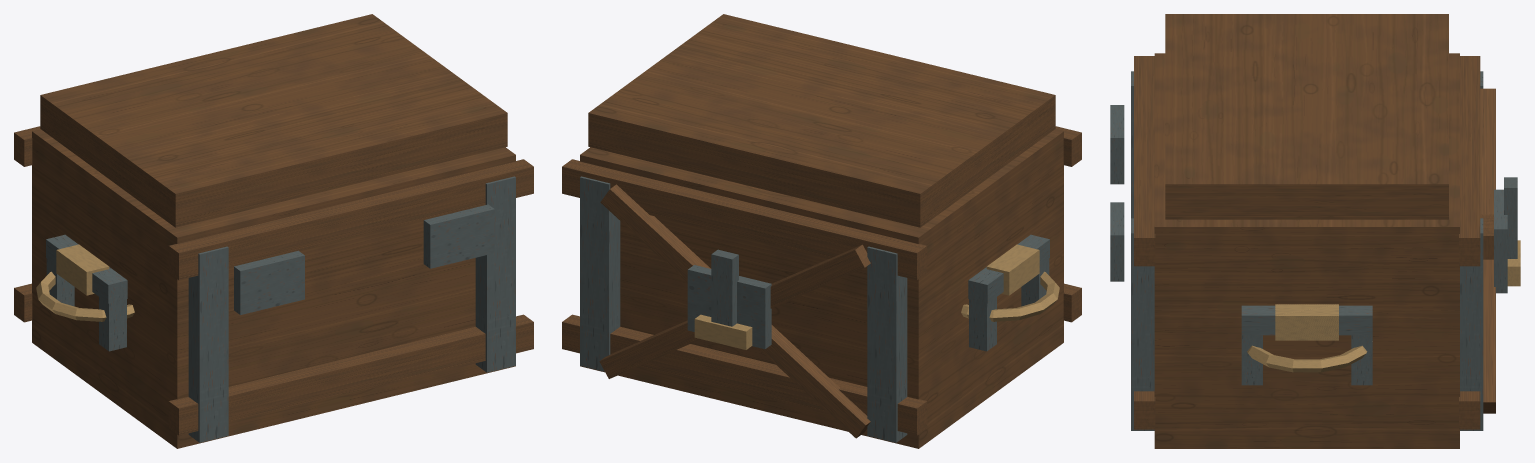
File: pr-004_supply_crate__closed.obj
The picture shows the model from 3 angles, left to right: view 1: azimuth 30°, elevation 25°; view 2: azimuth 150°, elevation 25°; view 3: azimuth 270°, elevation 25°; orthographic projection. The views are drawn at different scales.
Visible parts, largest first — view 1: pr-004_supply_crate__closed; view 2: pr-004_supply_crate__closed; view 3: pr-004_supply_crate__closed.
Part boxes in pixels (x1,y1,x2,y2): pr-004_supply_crate__closed: (14,14,533,448); pr-004_supply_crate__closed: (562,14,1081,448); pr-004_supply_crate__closed: (1110,14,1520,448).
Size of the model in its own units: 1.42 by 0.7414 by 1.05.
Materials: 3 (3 with a texture image).
